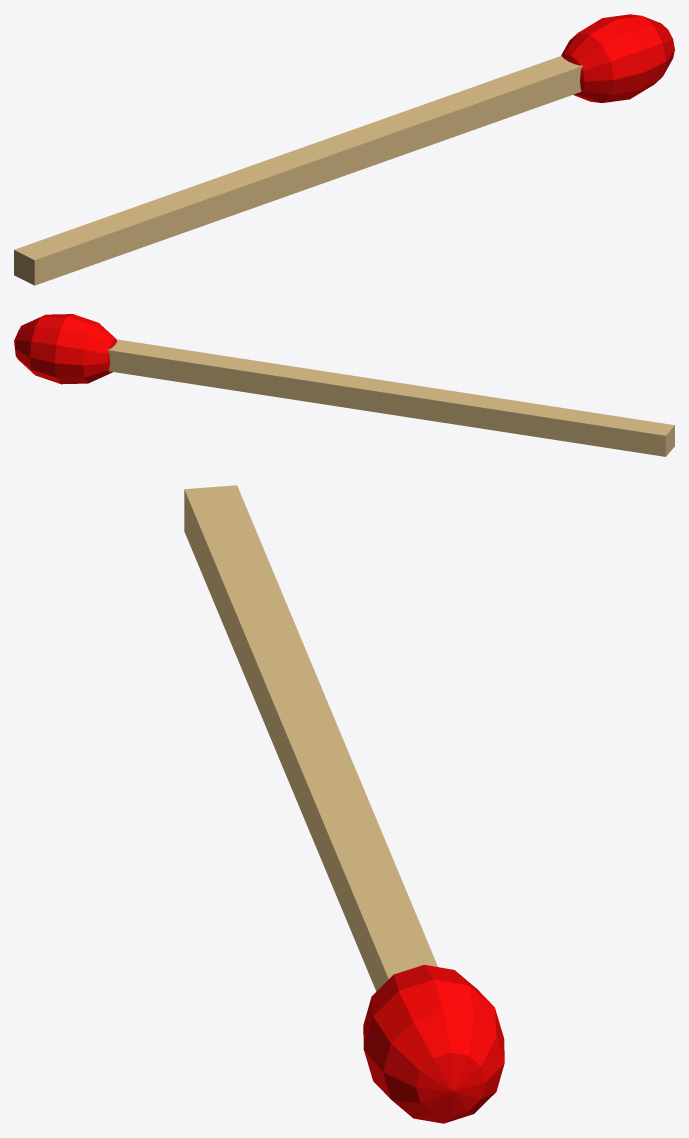
3 renders of one model, top to bottom at view 1: azimuth 30°, elevation 25°; view 2: azimuth 150°, elevation 25°; view 3: azimuth 270°, elevation 25°, orthographic. The views are drawn at different scales.
Visible parts, largest first — view 1: Box001, Sphere001; view 2: Box001, Sphere001; view 3: Box001, Sphere001.
Boxes of the visible parts, bbox=[...] form: Box001: bbox=[14, 55, 582, 285]; Sphere001: bbox=[561, 14, 674, 102]; Box001: bbox=[107, 339, 674, 456]; Sphere001: bbox=[14, 314, 116, 384]; Box001: bbox=[184, 485, 437, 991]; Sphere001: bbox=[363, 964, 504, 1123].
Bounding box in the file's own units: 1446877 × 149638 × 335835.
